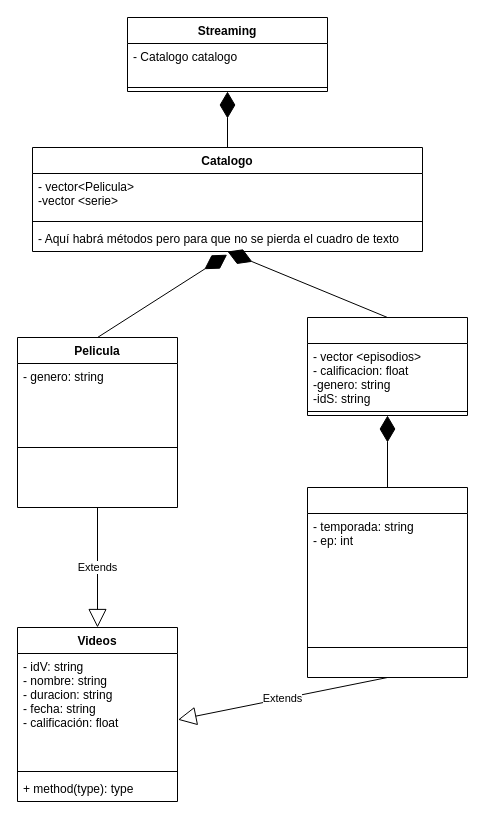
The diagram is 485 pixels wide and 822 high, and some of its shapes have lost their labels. The box of each missing label's shape, as (x1, y1, x2, y2) in pixels:
Episodio: (306, 486, 468, 678)
Serie: (306, 316, 468, 416)
